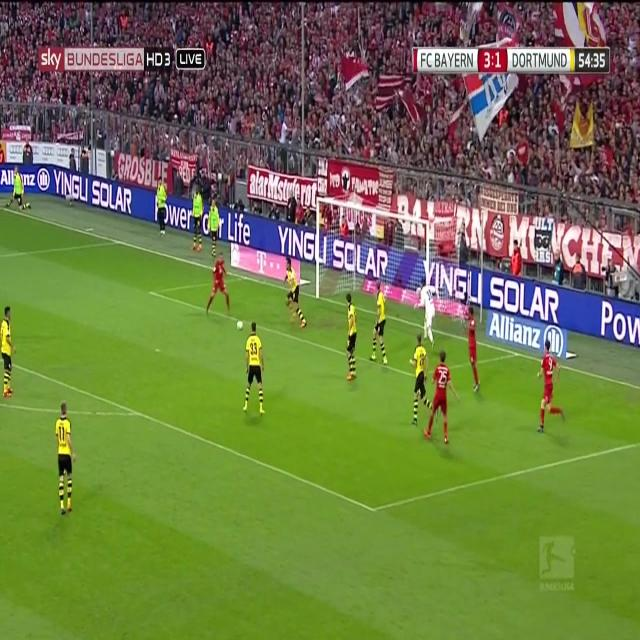Ball: (235, 316, 245, 333)
Player: (422, 349, 461, 446), (52, 402, 78, 520), (534, 338, 563, 439), (408, 332, 433, 430), (203, 250, 234, 322), (242, 318, 264, 417), (282, 259, 308, 332), (413, 277, 441, 344), (464, 304, 484, 397), (368, 281, 388, 371), (342, 290, 360, 388), (0, 304, 16, 403)
